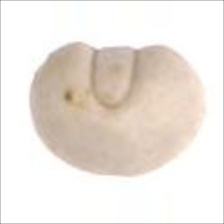L5: (89, 45, 139, 110)
L6: (27, 39, 206, 179)
